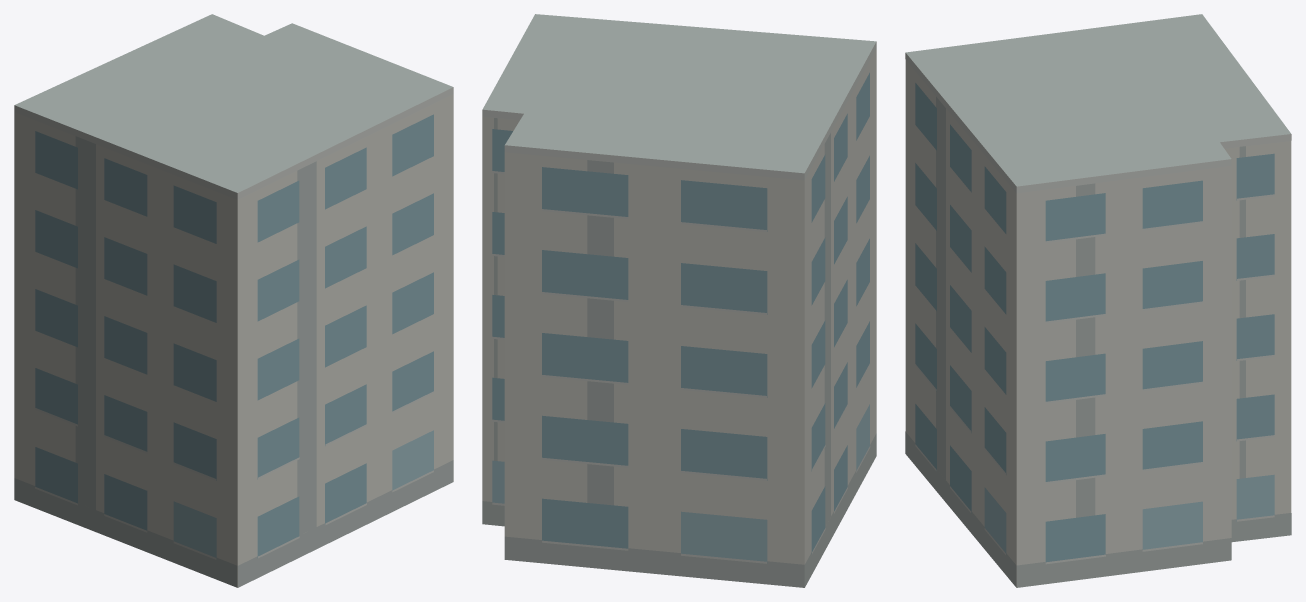
The model's file is survey-upis-32902865.glb.
3 views of the same model, side by side, from view 1: azimuth 30°, elevation 25°; view 2: azimuth 150°, elevation 25°; view 3: azimuth 270°, elevation 25° (orthographic). The views are drawn at different scales.
Parts seen in each view (by area): view 1: survey-upis-32902865.tmp; view 2: survey-upis-32902865.tmp; view 3: survey-upis-32902865.tmp.
Part boxes in pixels (bbox=[...]): survey-upis-32902865.tmp: bbox=[14, 14, 453, 587]; survey-upis-32902865.tmp: bbox=[482, 14, 876, 587]; survey-upis-32902865.tmp: bbox=[905, 14, 1291, 587].
Bounding box in the file's own units: 13.11 × 14.2 × 12.39.
